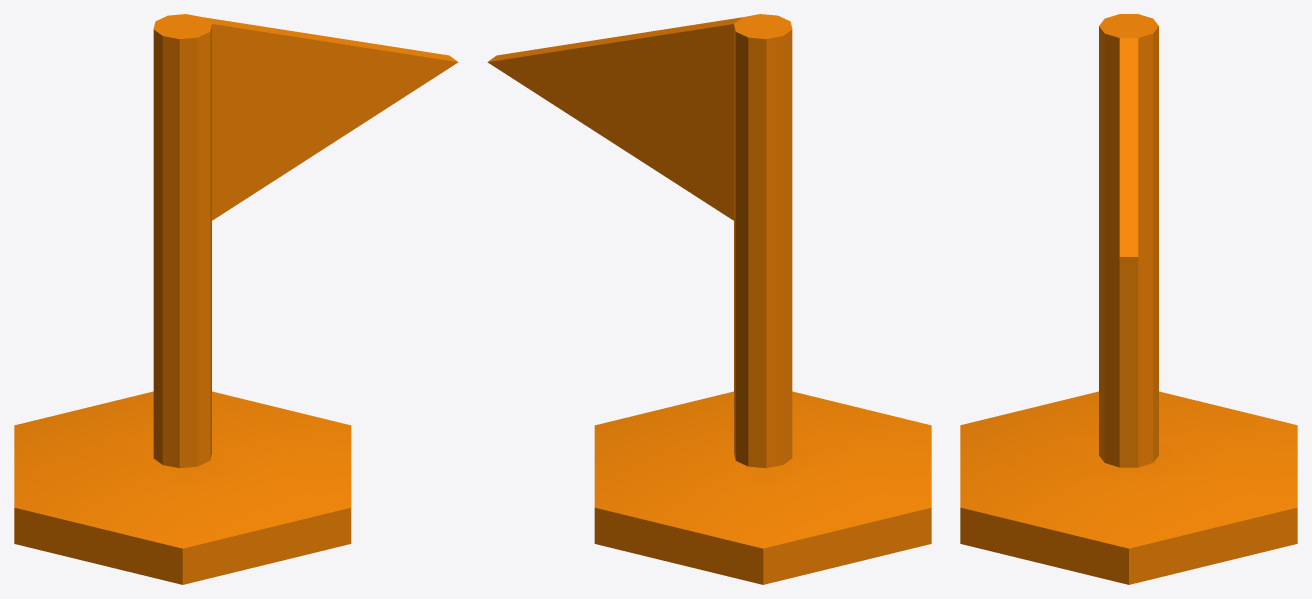
The model's file is Boardgame_Token_Flag_Orange_01.fbx.
The picture shows the model from 3 angles, left to right: view 1: azimuth 30°, elevation 25°; view 2: azimuth 150°, elevation 25°; view 3: azimuth 270°, elevation 25°; orthographic projection.
Parts seen in each view (by area): view 1: Boardgame_Token_Flag_Orange_01; view 2: Boardgame_Token_Flag_Orange_01; view 3: Boardgame_Token_Flag_Orange_01.
Part boxes in pixels (x1,y1,x2,y2): Boardgame_Token_Flag_Orange_01: [14, 14, 458, 584]; Boardgame_Token_Flag_Orange_01: [487, 14, 931, 584]; Boardgame_Token_Flag_Orange_01: [960, 14, 1297, 584].
Size of the model in its own units: 49.18 by 50.9 by 32.63.
